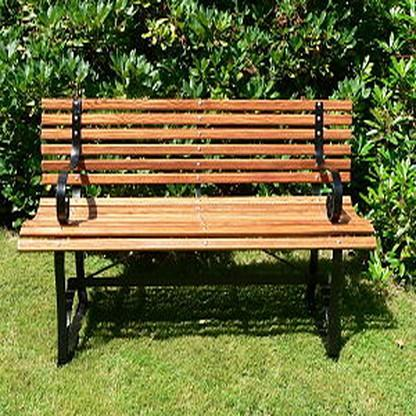obstacle: (13, 89, 390, 363)
